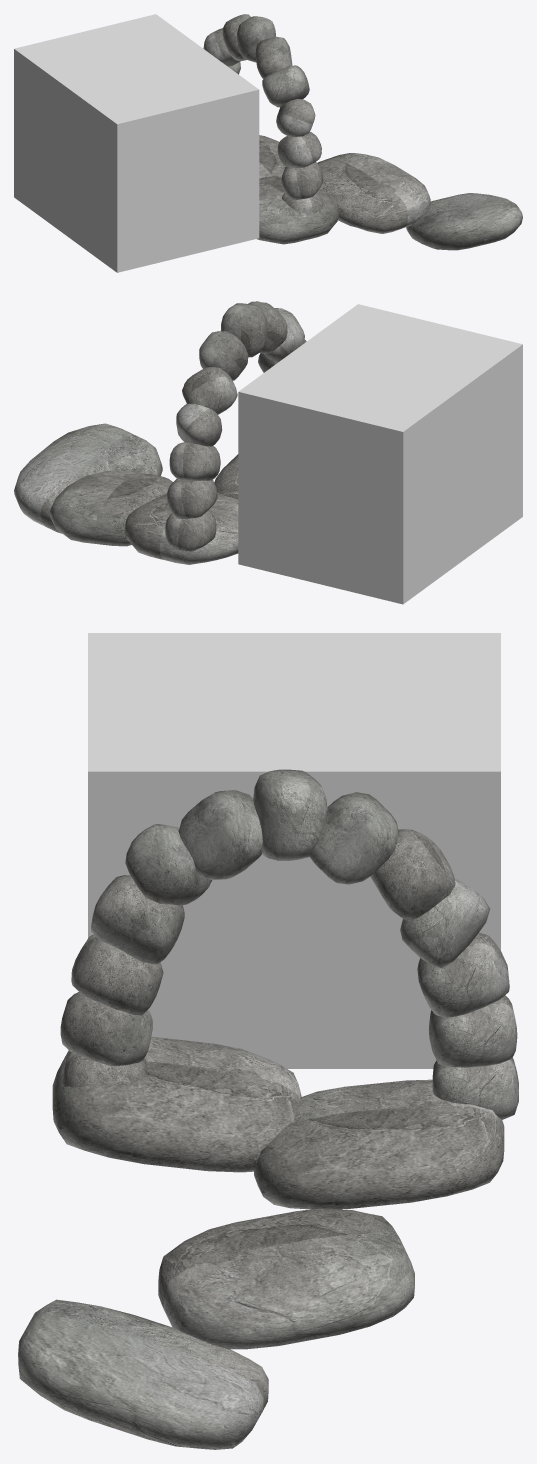
Rendered from PortalFinishLine.fbx.
The picture shows the model from 3 angles, top to bottom: view 1: azimuth 30°, elevation 25°; view 2: azimuth 150°, elevation 25°; view 3: azimuth 270°, elevation 25°; orthographic projection. The views are drawn at different scales.
Visible parts, largest first — view 1: Cube, Roundcube.015, Roundcube.016, Roundcube.010, Roundcube.006, Roundcube.002, Roundcube.001, Roundcube.005, Roundcube.003, Roundcube.004, Roundcube.014, Roundcube.007 (+2 smaller); view 2: Cube, Roundcube.016, Roundcube.015, Roundcube.014, Roundcube.007, Roundcube.011, Roundcube.003, Roundcube.009, Roundcube.012, Roundcube.008, Roundcube.013, Roundcube.004 (+2 smaller); view 3: Cube, Roundcube.015, Roundcube.016, Roundcube.014, Roundcube.010, Roundcube.009, Roundcube.004, Roundcube.003, Roundcube.005, Roundcube.011, Roundcube.007, Roundcube.001 (+6 smaller).
Boxes of the visible parts, x1,y1,x2,y2 form: Cube: [14, 14, 259, 272]; Roundcube.015: [317, 153, 430, 233]; Roundcube.016: [406, 193, 522, 250]; Roundcube.010: [257, 176, 338, 244]; Roundcube.006: [262, 65, 309, 107]; Roundcube.002: [277, 131, 321, 167]; Roundcube.001: [281, 162, 322, 199]; Roundcube.005: [276, 99, 315, 137]; Roundcube.003: [237, 16, 276, 62]; Roundcube.004: [255, 37, 292, 79]; Roundcube.014: [259, 135, 285, 178]; Roundcube.007: [203, 28, 239, 66]; Cube: [238, 304, 522, 604]; Roundcube.016: [14, 423, 162, 533]; Roundcube.015: [50, 470, 172, 546]; Roundcube.014: [125, 492, 238, 564]; Roundcube.007: [182, 367, 237, 414]; Roundcube.011: [169, 442, 220, 480]; Roundcube.003: [220, 303, 267, 357]; Roundcube.009: [199, 331, 248, 380]; Roundcube.012: [166, 479, 217, 518]; Roundcube.008: [176, 403, 222, 446]; Roundcube.013: [165, 510, 216, 551]; Roundcube.004: [248, 301, 287, 353]; Cube: [88, 633, 500, 1068]; Roundcube.015: [158, 1208, 414, 1349]; Roundcube.016: [18, 1299, 268, 1449]; Roundcube.014: [254, 1079, 504, 1209]; Roundcube.010: [52, 1036, 301, 1172]; Roundcube.009: [309, 792, 398, 884]; Roundcube.004: [178, 790, 262, 879]; Roundcube.003: [253, 769, 327, 860]; Roundcube.005: [91, 875, 184, 964]; Roundcube.011: [417, 932, 509, 1017]; Roundcube.007: [370, 829, 455, 920]; Roundcube.001: [60, 992, 152, 1066].
Size of the model in its own units: 722 by 410 by 382.
Materials: 17 (17 with a texture image).
